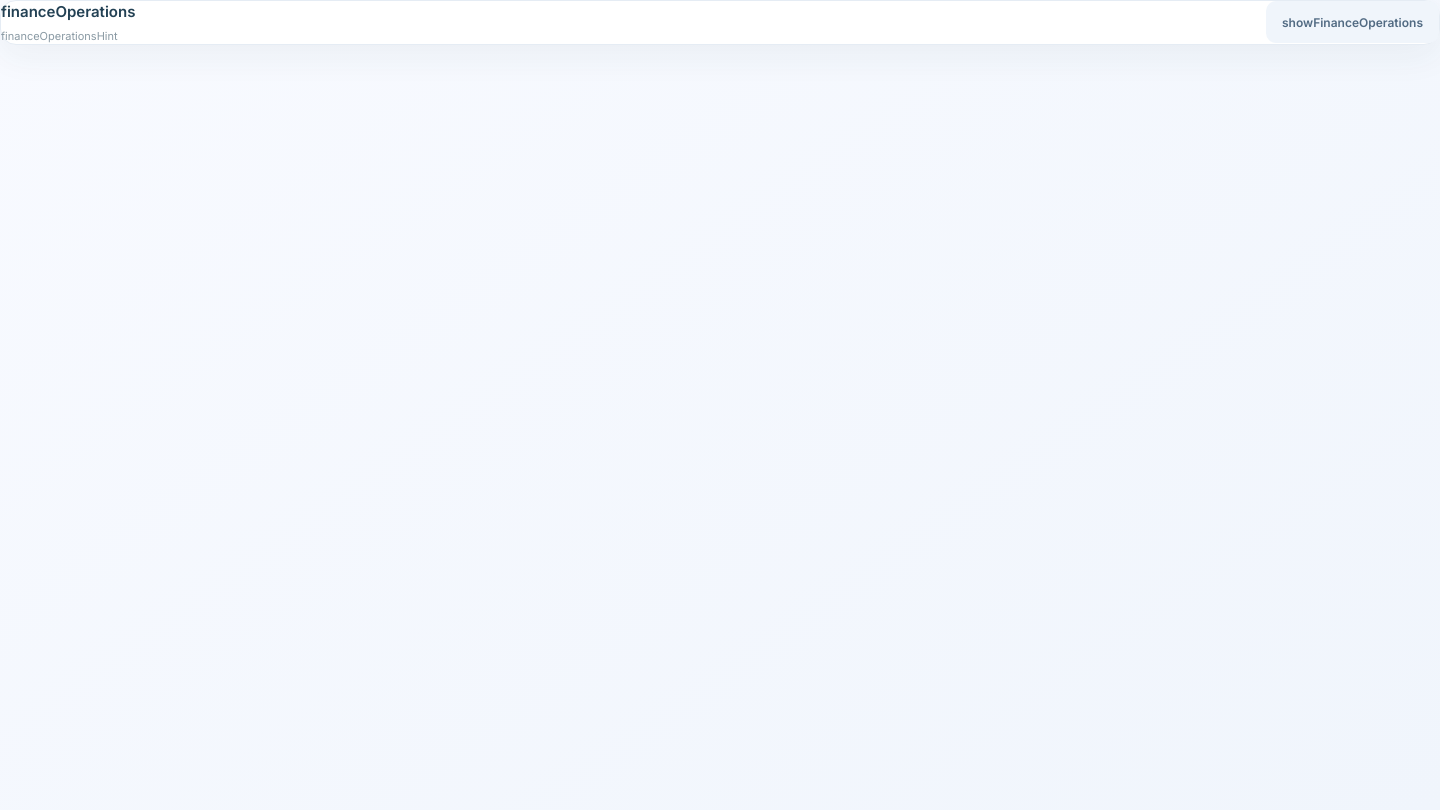
Test case: finance operations panel › shows approval controls to a principal
The width and height of the screenshot is (1440, 810).
What coordinates should you click on to do the following:
click the button "showFinanceOperations"
I would click on:
 (1352, 22)
Its box is [1266, 1, 1439, 43].
(page scrolled)
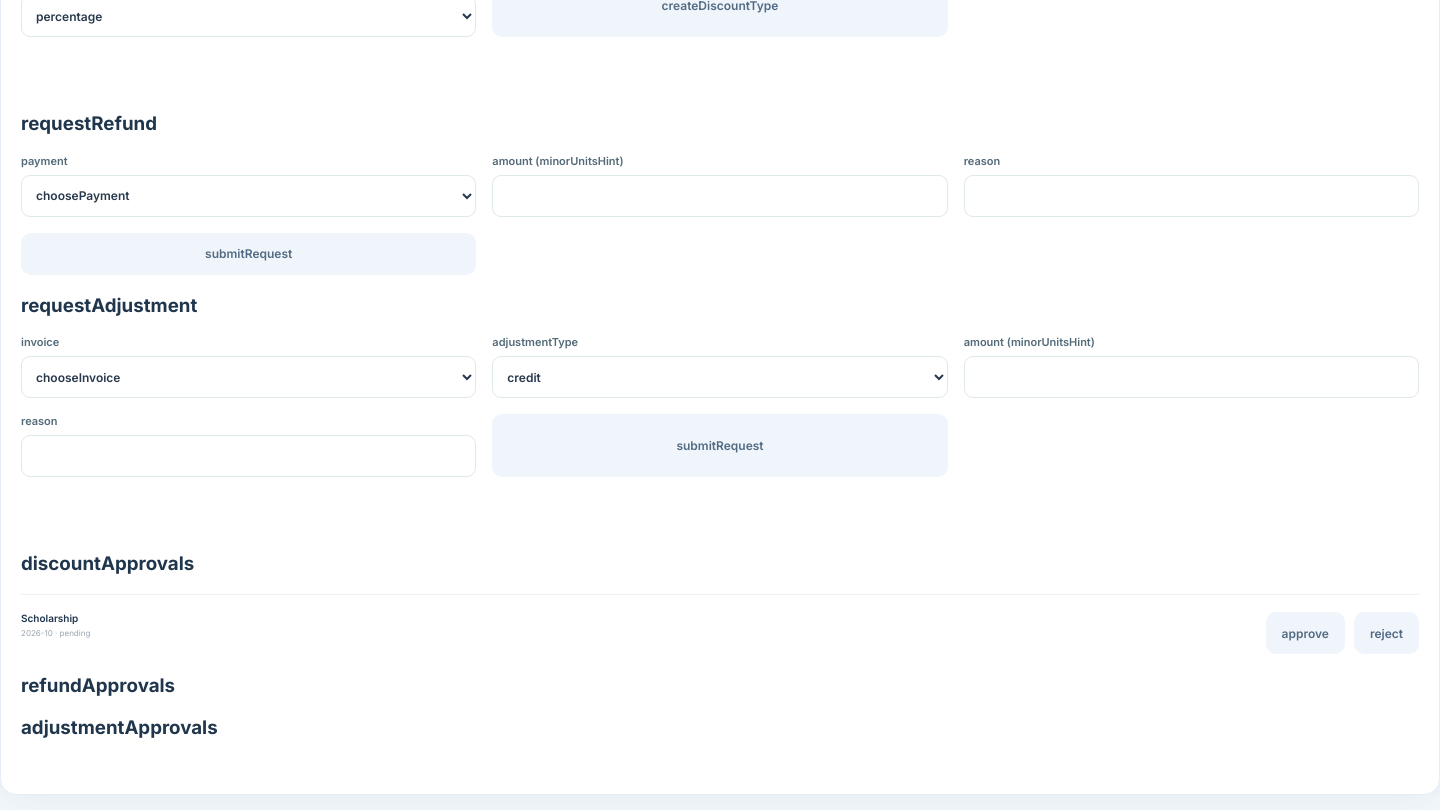
Check: the button "approve" is shown, box [1266, 612, 1345, 654]
